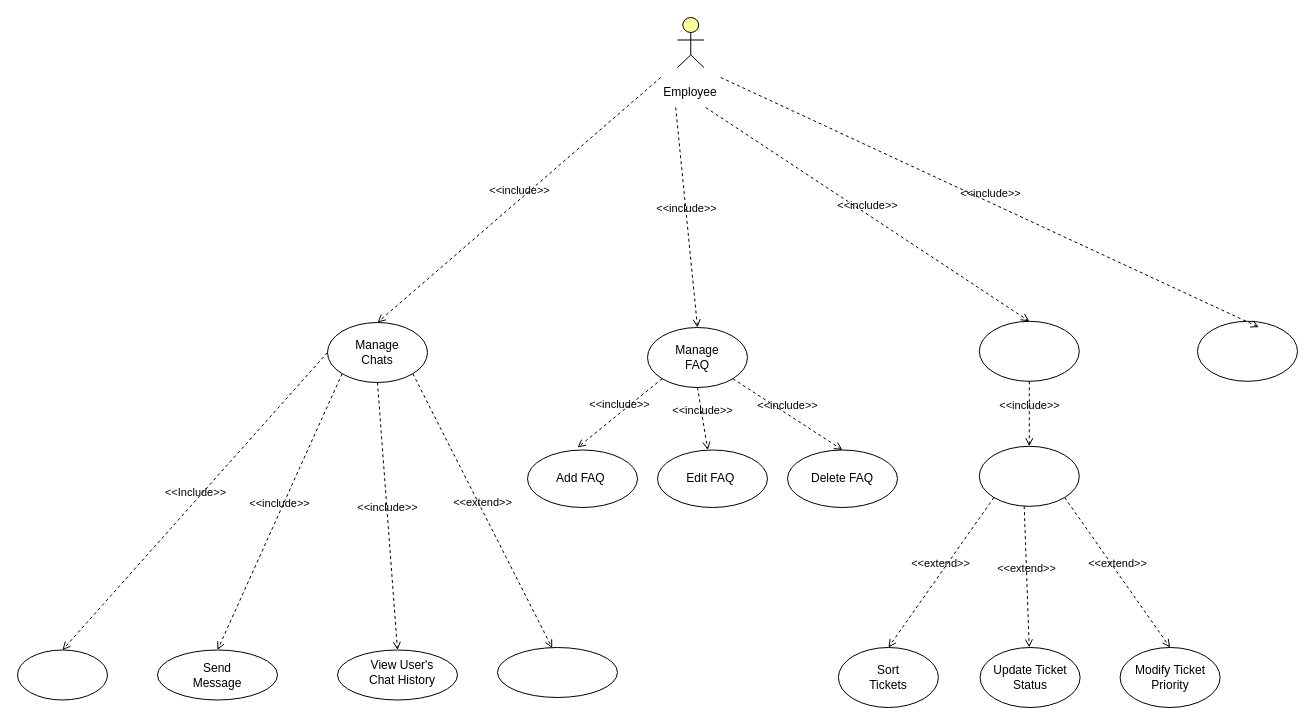
Some shapes in this 1315 by 725 pixel diagram are drawn without their labels. The box of each missing label's shape, as (x1, y1, x2, y2) in pixels:
Accept Chat: (16, 649, 108, 700)
Manage Tickets: (978, 320, 1079, 381)
Mark Chat as Resolved: (496, 646, 618, 698)
View All Tickets: (978, 445, 1079, 506)
View Dashboard: (1196, 320, 1298, 381)
